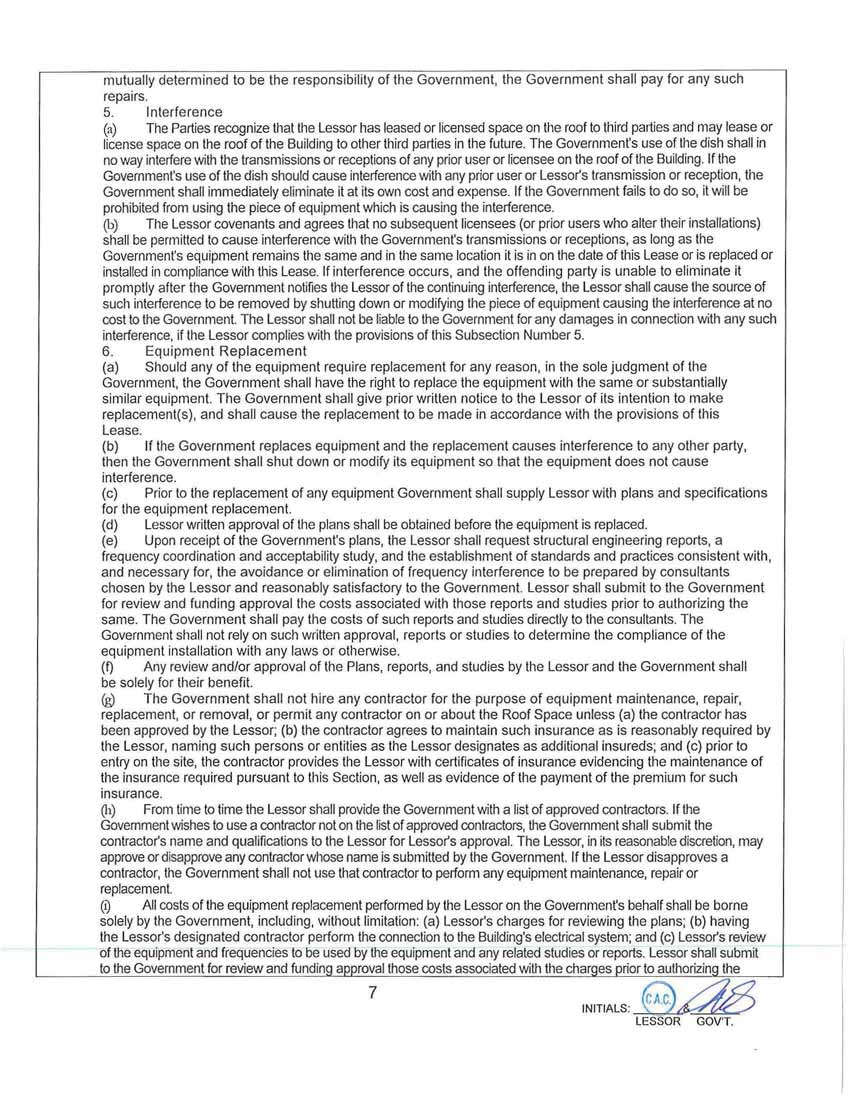handwritten: (681, 973, 766, 1014)
